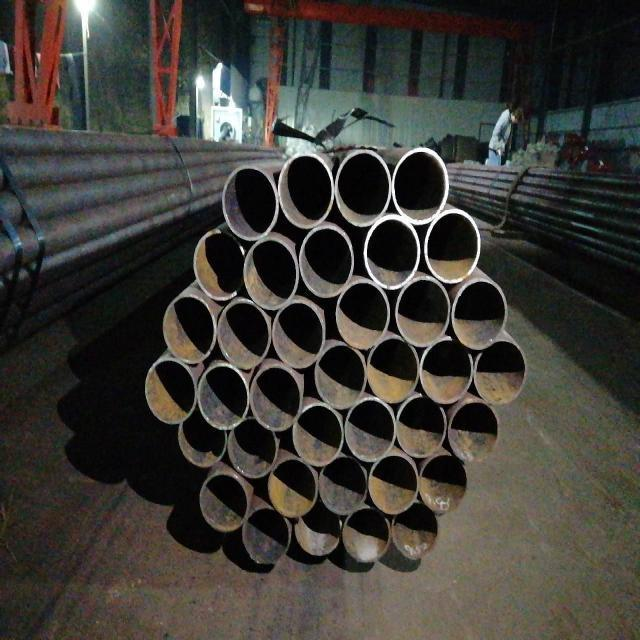pipe: (391, 144, 448, 225), (334, 148, 390, 226), (221, 165, 278, 241), (363, 214, 419, 290), (278, 152, 333, 228), (423, 208, 479, 282), (451, 277, 507, 349), (243, 239, 298, 311), (395, 275, 450, 346), (299, 226, 353, 298), (193, 362, 250, 430), (335, 279, 390, 349), (161, 294, 216, 364), (216, 300, 271, 369), (193, 228, 245, 300), (418, 335, 473, 403), (142, 357, 197, 425), (271, 301, 325, 370), (473, 339, 530, 404), (366, 335, 421, 402), (249, 363, 302, 431), (314, 345, 367, 409), (447, 400, 500, 464), (395, 393, 447, 458), (344, 397, 396, 462), (291, 402, 343, 466), (196, 471, 249, 532), (367, 453, 420, 514), (293, 494, 342, 558), (176, 406, 228, 466), (226, 417, 278, 477), (317, 455, 368, 516), (391, 500, 441, 562), (417, 453, 469, 512), (267, 457, 318, 517), (342, 505, 390, 565), (241, 506, 290, 564)
